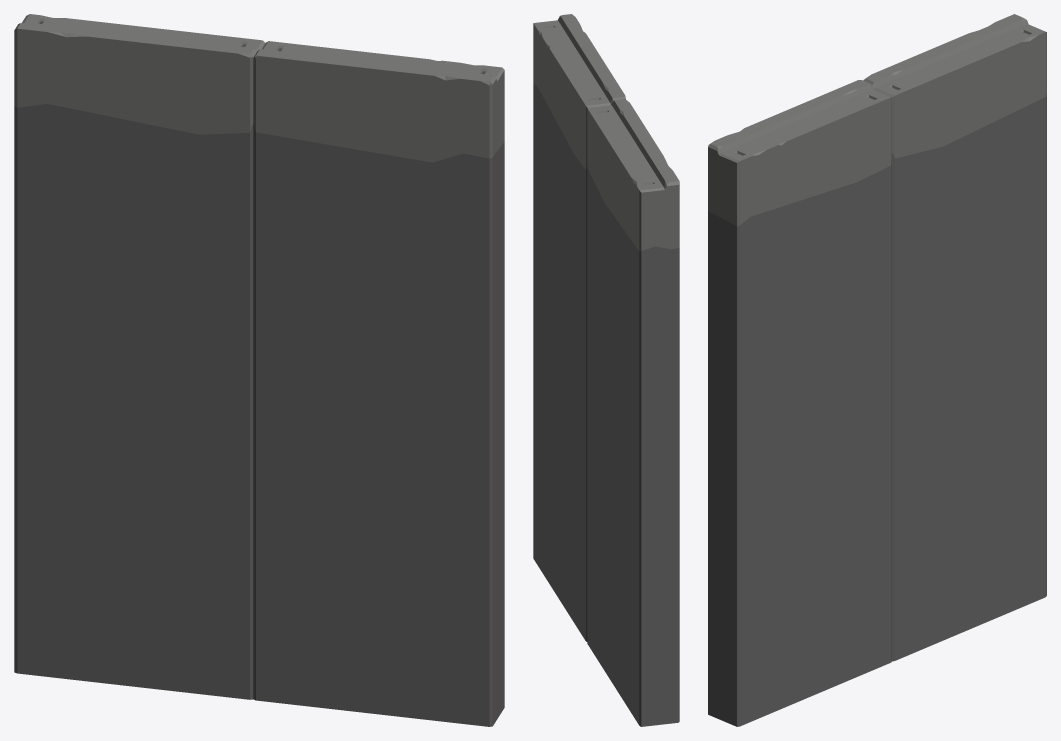
The model's file is SM_Env_PortEdge_Angle_01.fbx.
3 views of the same model, side by side, from view 1: azimuth 30°, elevation 25°; view 2: azimuth 150°, elevation 25°; view 3: azimuth 270°, elevation 25° (orthographic). The views are drawn at different scales.
Visible parts, largest first — view 1: SM_Env_PortEdge_Angle_01; view 2: SM_Env_PortEdge_Angle_01; view 3: SM_Env_PortEdge_Angle_01.
Part boxes in pixels (x1=…): SM_Env_PortEdge_Angle_01: x1=14, y1=14, x2=504, y2=726; SM_Env_PortEdge_Angle_01: x1=533, y1=14, x2=679, y2=726; SM_Env_PortEdge_Angle_01: x1=708, y1=14, x2=1046, y2=726.
Size of the model in its own units: 1094 by 2032 by 1094.
